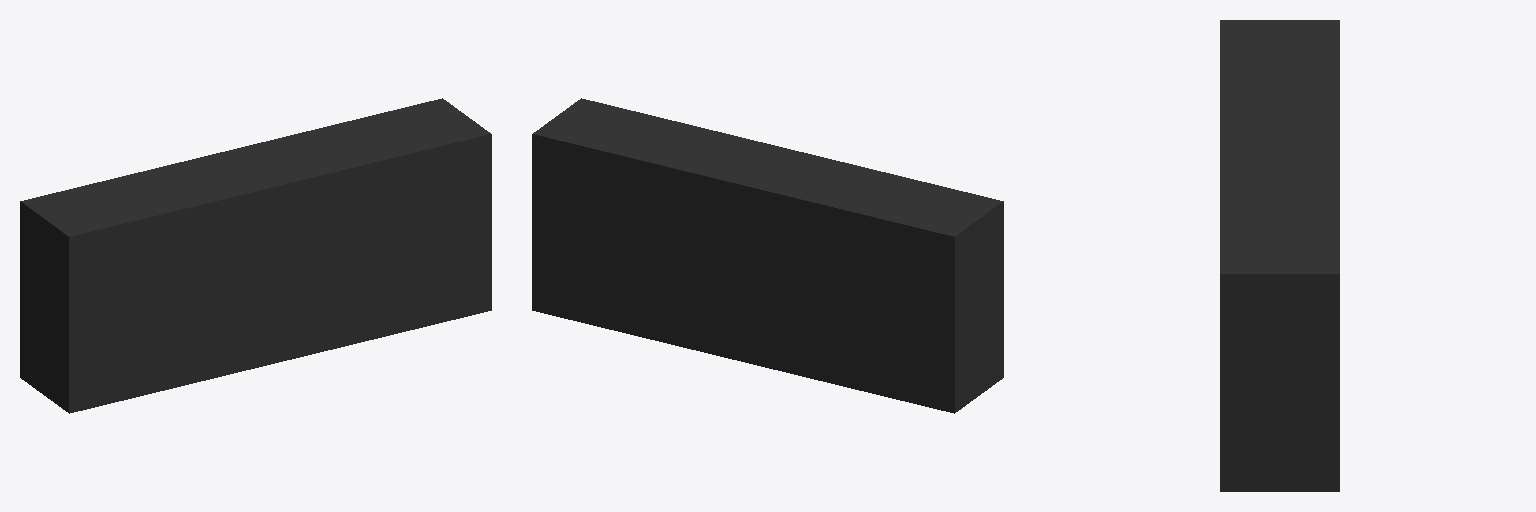
URDF robot description (wall):
<robot name="wall">
  <link name="baseLink">
   
    <inertial>
      <origin rpy="0 0 0" xyz="0 0 0" />
       <mass value="10" />
       <inertia ixx="0" ixy="0" ixz="0" iyy="0" iyz="0" izz="0" />
    </inertial>
    <visual>
      <origin rpy="0 0 0" xyz="0 0 0" />
      <geometry>
			  <box size="2.5 0.5 1" />
      </geometry>
       <material name="grey">
        <color rgba="0.24 0.24 0.24 1" />
      </material>
    </visual>
    <collision>
      <origin rpy="0 0 0" xyz="0 0 0" />
      <geometry>
	 	      <box size="2.5 0.5 1" />
      </geometry>
    </collision>
  </link>
</robot>

--- Render facts (derived) ---
3 views of the same robot in one strip: view 1: azimuth 30°, elevation 25°; view 2: azimuth 150°, elevation 25°; view 3: azimuth 270°, elevation 25° (orthographic).
Robot: wall — 1 links, 0 joints (none); root link baseLink; default pose: every joint at zero.
Links seen in each view (by area): view 1: baseLink; view 2: baseLink; view 3: baseLink.
Boxes of the visible links, <box> form: baseLink: <box>20,98,491,413</box>; baseLink: <box>532,98,1003,413</box>; baseLink: <box>1220,20,1339,491</box>.
Bounding box of the posed robot: 2.5 × 0.5 × 1 m (x, y, z).
Geometry: primitives only (box / cylinder / sphere), no mesh files.
